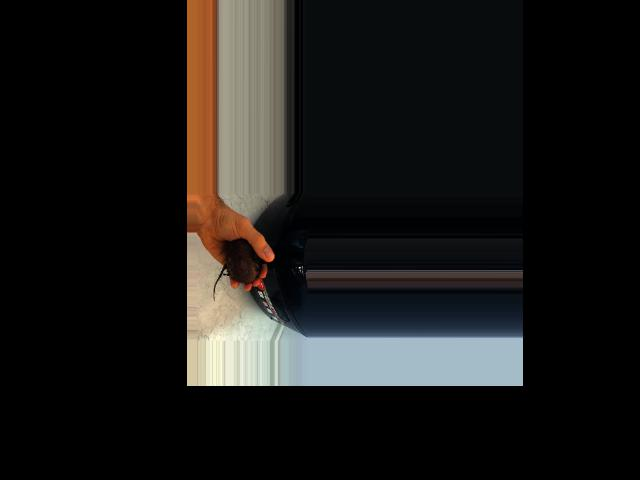beet: (213, 239, 266, 301)
